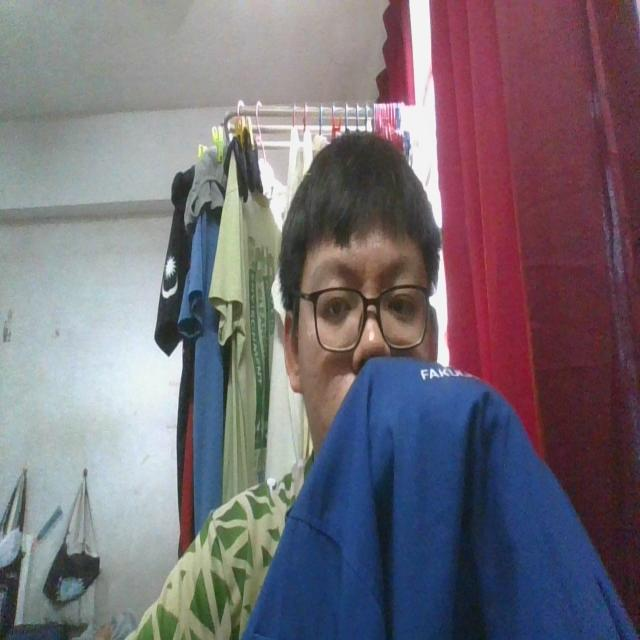person_without_labcoat: (130, 132, 637, 639)
